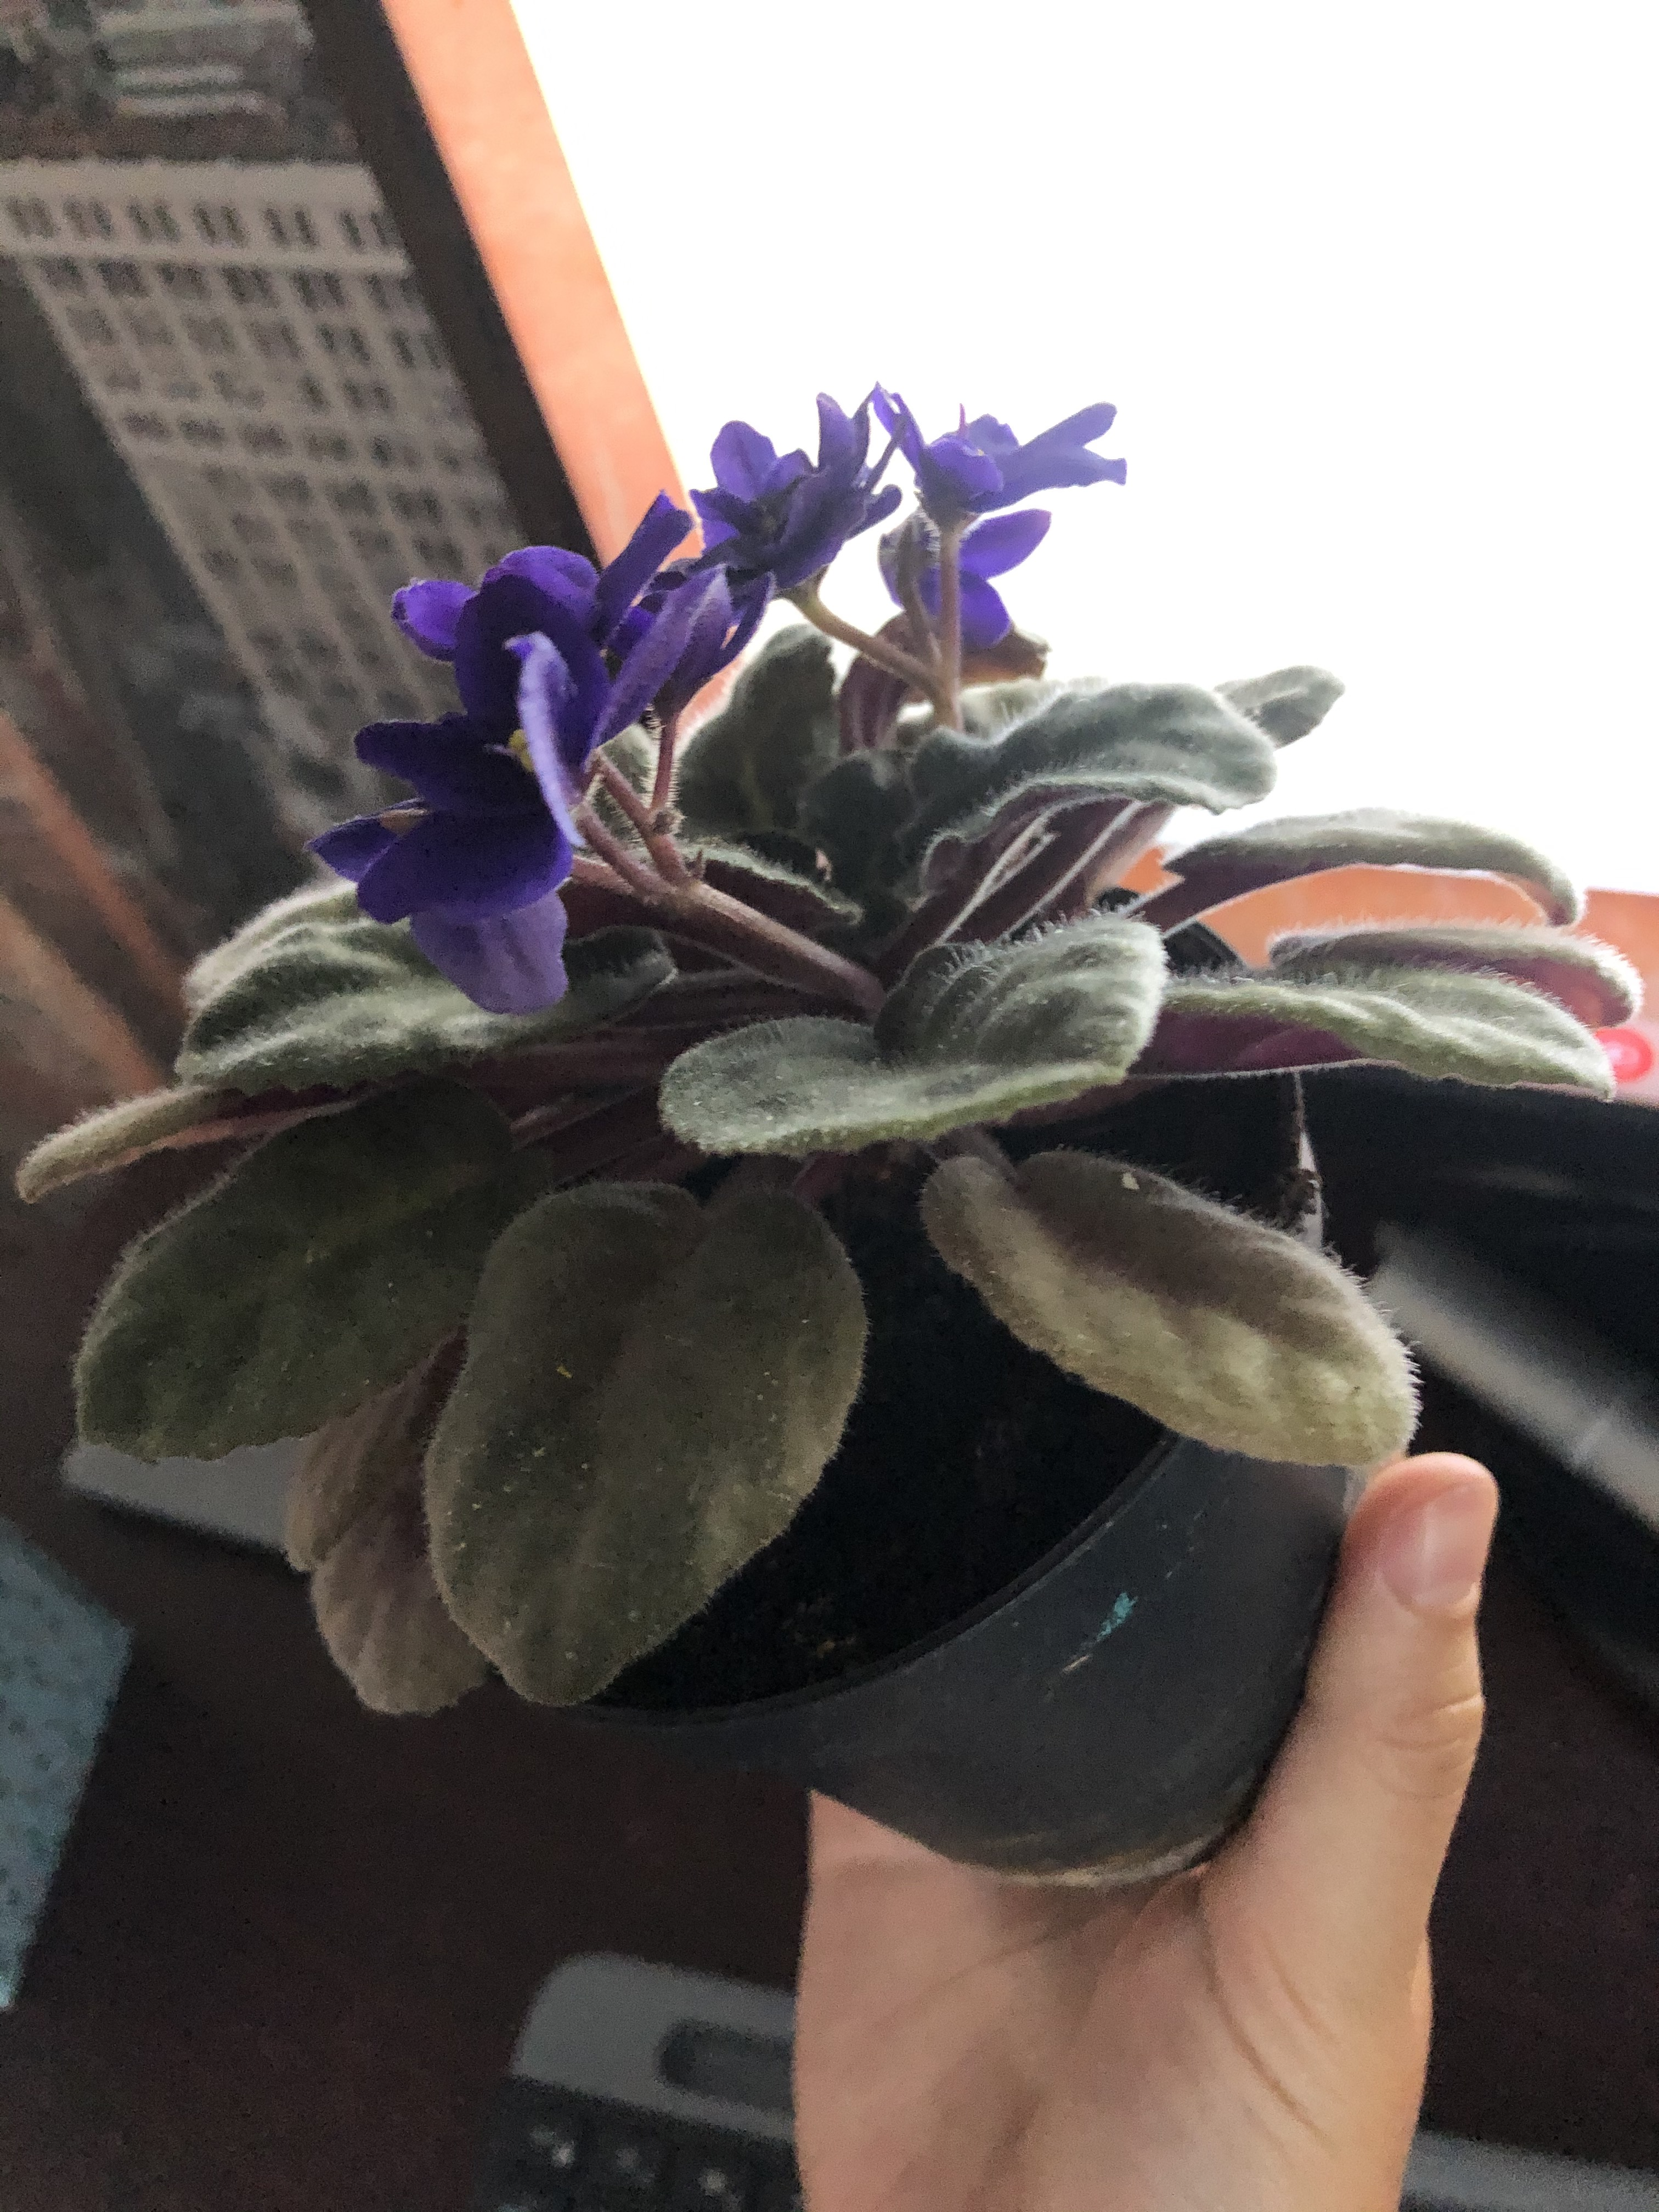ignore: (21, 378, 1593, 1691)
